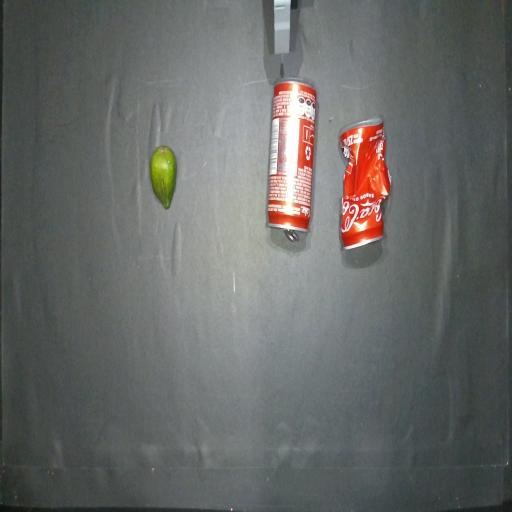higo: (151, 146, 176, 208)
lata: (267, 79, 317, 241)
lata_defectuoso: (340, 118, 390, 248)
